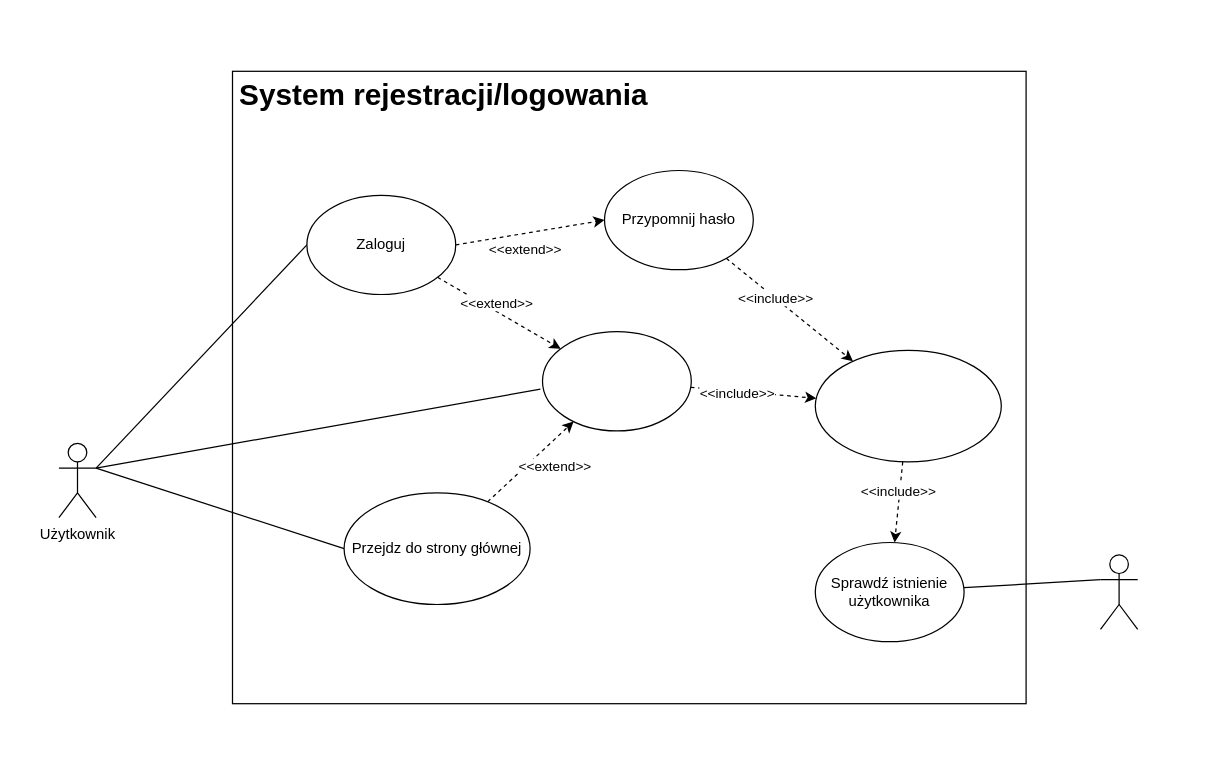
This 1219x761 diagram has some shape labels left out. The shapes that lost their labels are listed below. From the top down, each one's centre as x and y in pixels, then its label:
the point at 616,380: Utwórz konto
the point at 907,405: Sprawdź poprawność danych
the point at 1118,591: Baza danych
